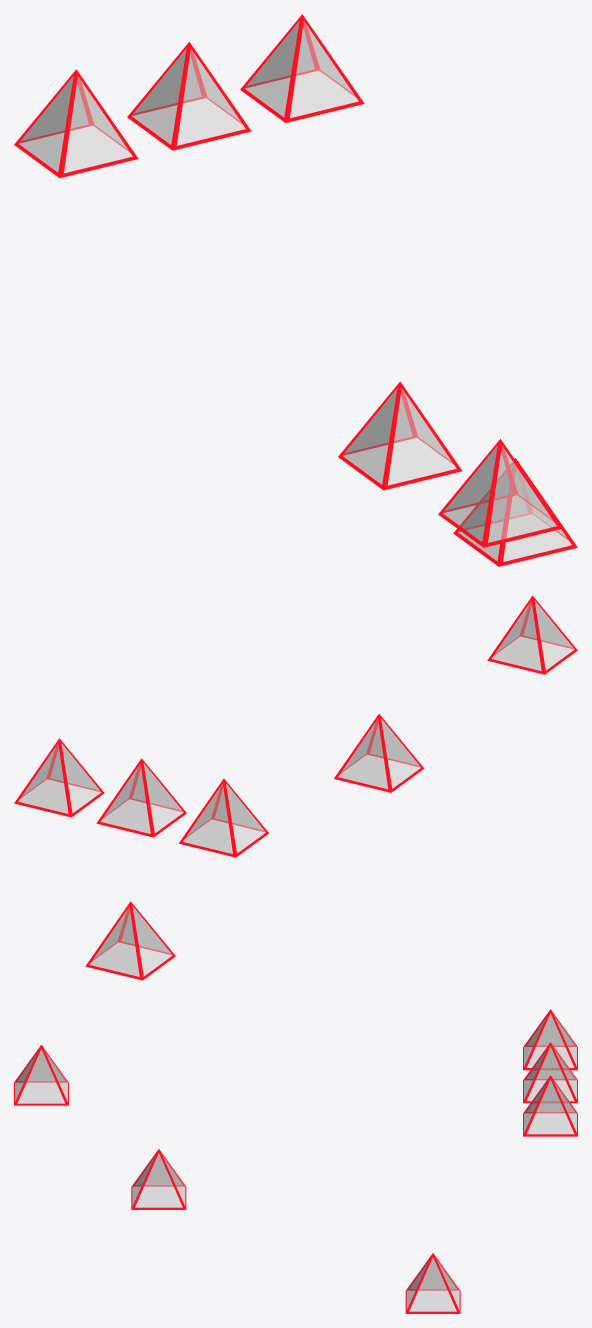
Rendered from (3)H Spike.fbx.
3 renders of one model, top to bottom at view 1: azimuth 30°, elevation 25°; view 2: azimuth 150°, elevation 25°; view 3: azimuth 270°, elevation 25°, orthographic. The views are drawn at different scales.
Parts seen in each view (by area): view 1: Spike..001, Spike..004, Spike..005, Spike..003, Spike..006, Spike..002; view 2: Spike..006, Spike..003, Spike..001, Spike..005, Spike..004, Spike..002; view 3: Spike..002, Spike..006, Spike..001, Spike..003, Spike..004, Spike..005.
Boxes of the visible parts, x1,y1,x2,y2 form: Spike..001: (338, 381, 462, 490); Spike..004: (14, 69, 138, 178); Spike..005: (127, 42, 251, 150); Spike..003: (438, 439, 562, 547); Spike..006: (240, 14, 364, 122); Spike..002: (453, 458, 577, 566); Spike..006: (14, 738, 104, 817); Spike..003: (487, 595, 577, 674); Spike..001: (85, 901, 175, 980); Spike..005: (96, 758, 186, 837); Spike..004: (179, 778, 268, 857); Spike..002: (334, 714, 424, 792); Spike..002: (131, 1149, 186, 1209); Spike..006: (523, 1075, 577, 1136); Spike..001: (405, 1253, 460, 1313); Spike..003: (14, 1045, 68, 1105); Spike..004: (523, 1009, 577, 1070); Spike..005: (523, 1042, 577, 1103).
Bounding box in the file's own units: 540 × 640 × 1440.
